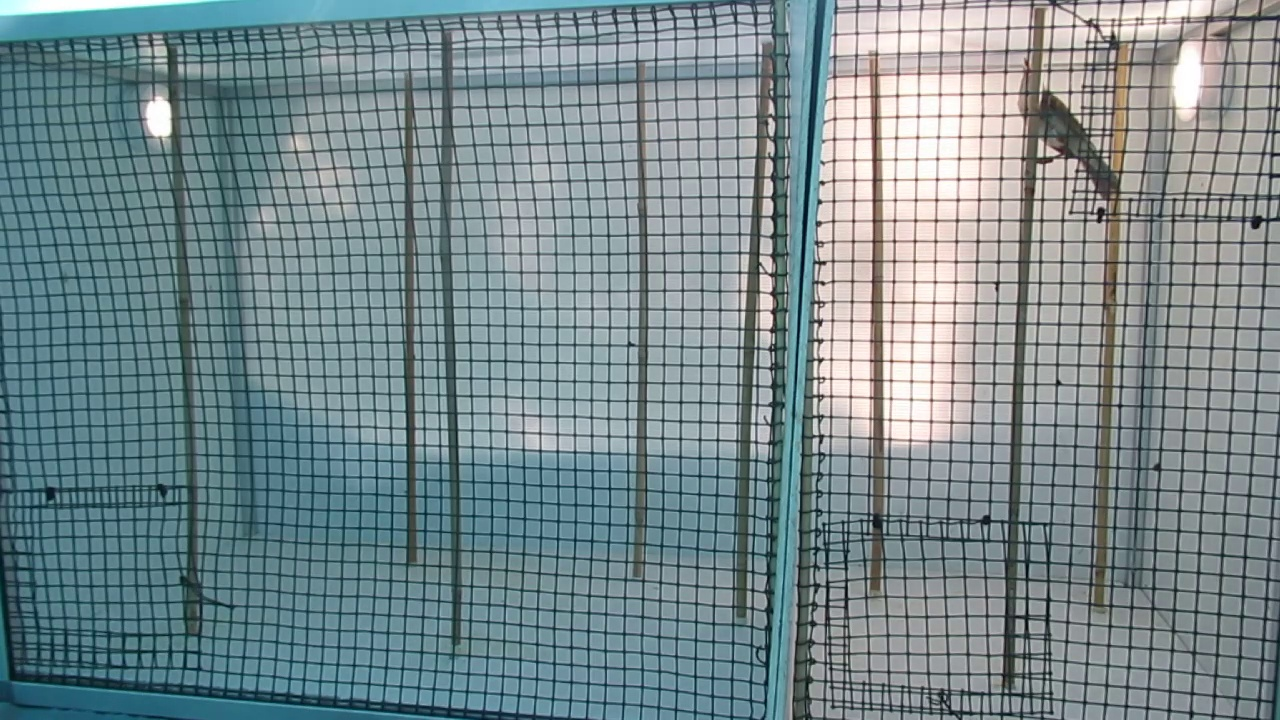bird: (1016, 54, 1122, 196)
stick: (1002, 13, 1044, 684), (733, 46, 777, 617), (1089, 45, 1130, 605), (165, 49, 204, 630), (437, 36, 465, 642), (401, 78, 421, 564), (866, 59, 883, 588), (634, 62, 649, 577)
